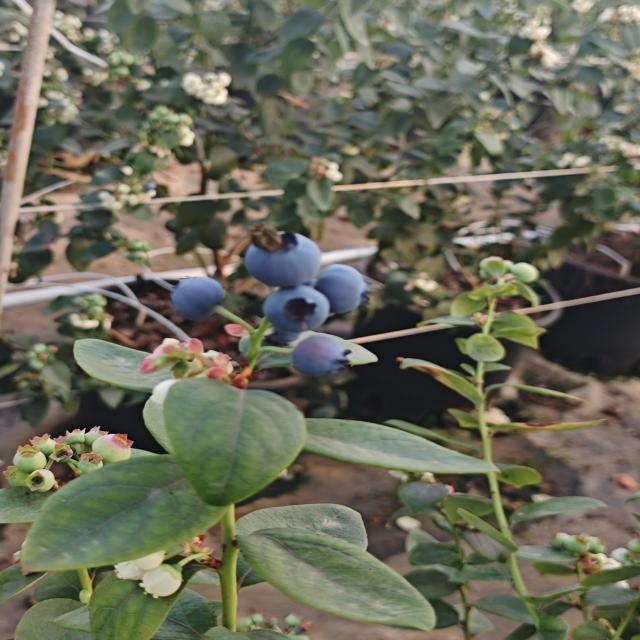ripe: (238, 218, 329, 286), (163, 272, 233, 322), (287, 330, 353, 382), (313, 264, 375, 314), (268, 289, 328, 333)
